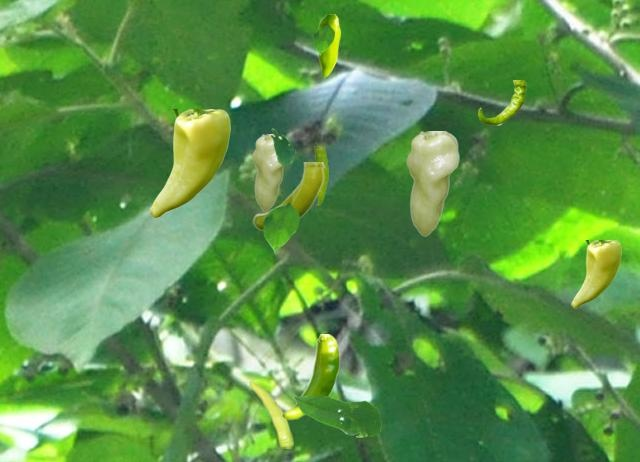green_chili: (149, 109, 229, 217), (406, 131, 458, 235), (281, 334, 339, 419), (252, 162, 324, 229), (571, 240, 620, 307), (251, 134, 289, 210), (249, 380, 292, 447), (478, 80, 525, 124), (318, 14, 339, 76), (314, 146, 327, 204)
